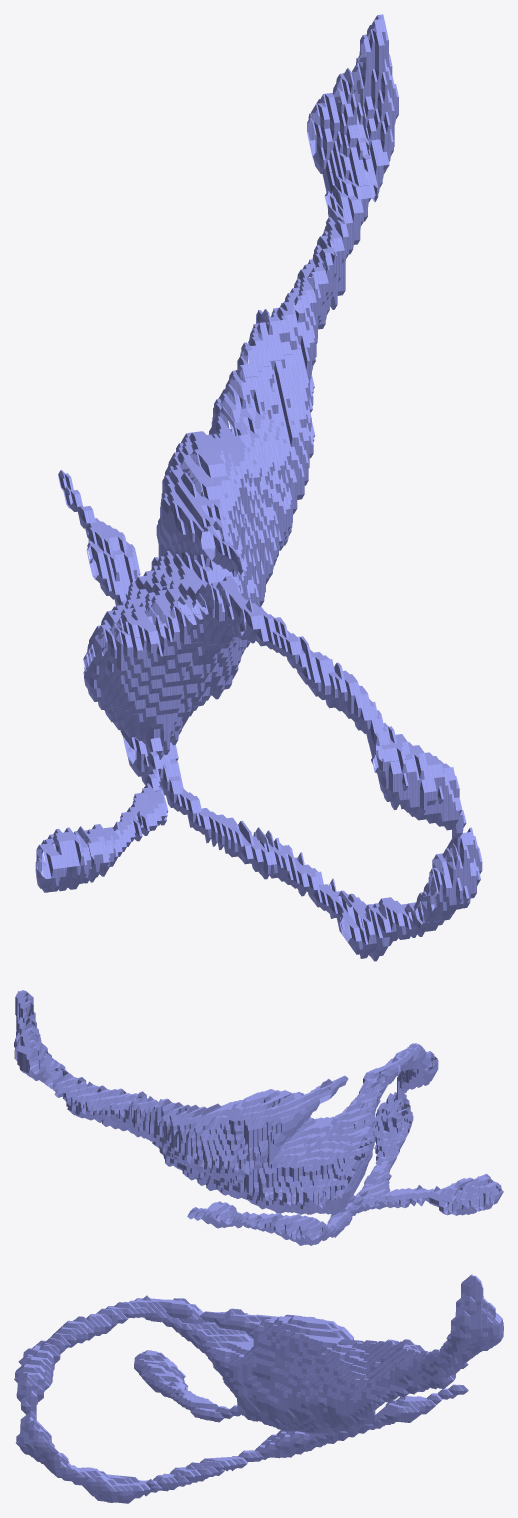
File: SVV_IL1VR.gltf
3 renders of one model, top to bottom at view 1: azimuth 30°, elevation 25°; view 2: azimuth 150°, elevation 25°; view 3: azimuth 270°, elevation 25°, orthographic. The views are drawn at different scales.
Visible parts, largest first — view 1: IL1VR; view 2: IL1VR; view 3: IL1VR.
Boxes of the visible parts, x1,y1,x2,y2 form: IL1VR: [35, 14, 482, 961]; IL1VR: [14, 990, 503, 1245]; IL1VR: [14, 1274, 503, 1503].
Bounding box in the file's own units: 50943 × 44201 × 61888.
